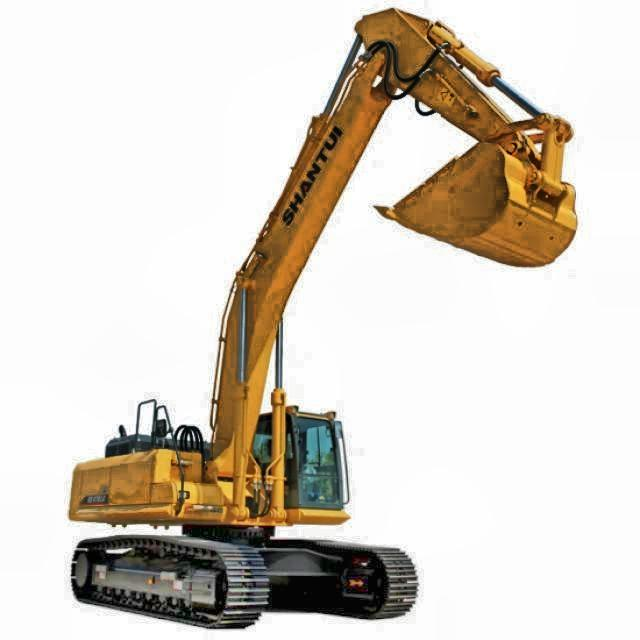excavator: (67, 3, 578, 630)
